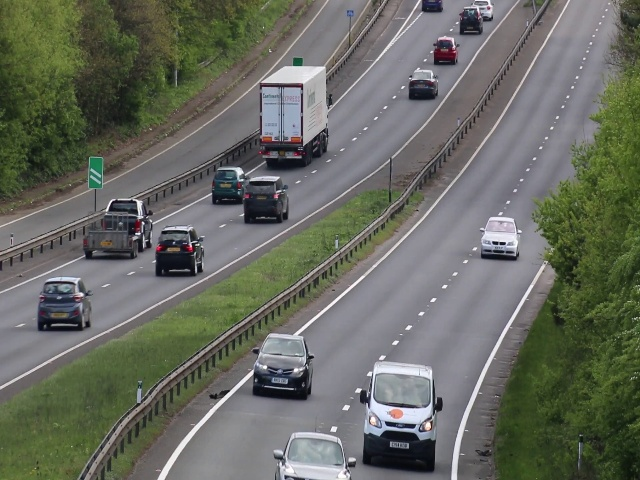car: (360, 363, 443, 471), (260, 63, 332, 164), (250, 329, 313, 399), (84, 194, 154, 257), (270, 429, 353, 480), (33, 274, 93, 332), (155, 224, 205, 275), (242, 175, 289, 222), (481, 214, 520, 264), (210, 166, 246, 205), (433, 33, 460, 67), (408, 69, 438, 99), (458, 8, 485, 34)
